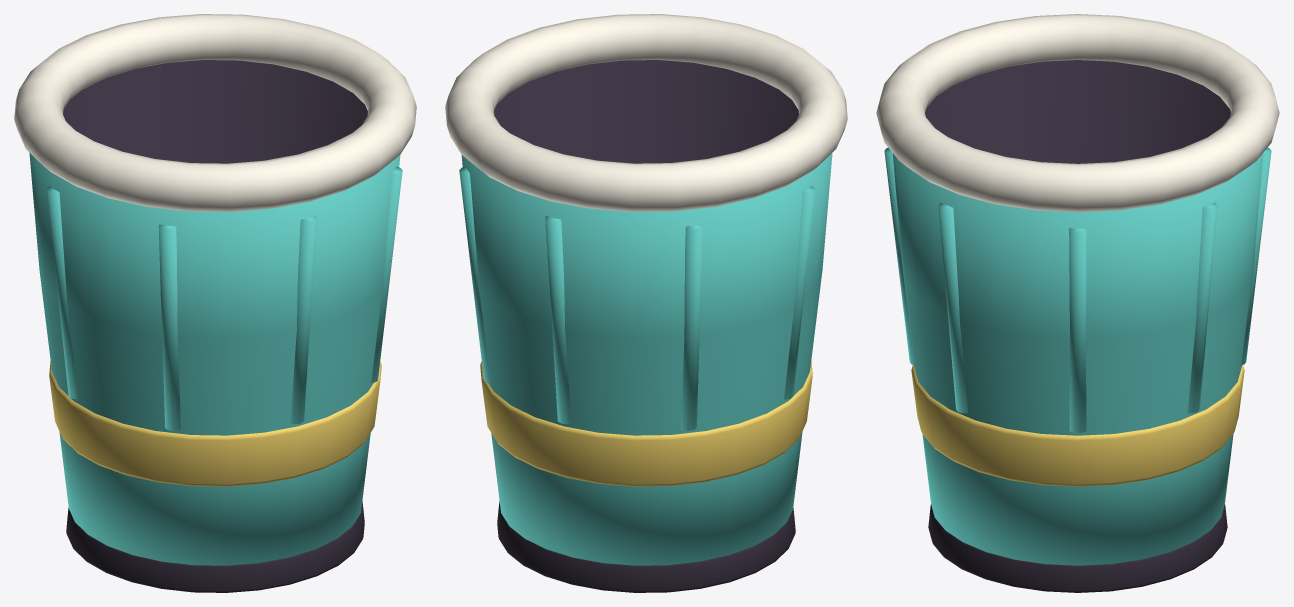
The model's file is trash-bin.glb.
3 views of the same model, side by side, from view 1: azimuth 30°, elevation 25°; view 2: azimuth 150°, elevation 25°; view 3: azimuth 270°, elevation 25° (orthographic).
Visible parts, largest first — view 1: FurnTrashBin_Body, FurnTrashBin_Rim, FurnTrashBin_InnerBase, FurnTrashBin_Stripe; view 2: FurnTrashBin_Body, FurnTrashBin_Rim, FurnTrashBin_InnerBase, FurnTrashBin_Stripe; view 3: FurnTrashBin_Body, FurnTrashBin_Rim, FurnTrashBin_InnerBase, FurnTrashBin_Stripe.
Part boxes in pixels (x1,y1,x2,y2): FurnTrashBin_Body: (29,152,402,565); FurnTrashBin_Rim: (14,14,416,211); FurnTrashBin_InnerBase: (63,60,367,592); FurnTrashBin_Stripe: (49,361,381,486); FurnTrashBin_Body: (459,152,832,565); FurnTrashBin_Rim: (445,14,847,211); FurnTrashBin_InnerBase: (494,60,798,592); FurnTrashBin_Stripe: (480,361,812,486); FurnTrashBin_Body: (884,147,1271,565); FurnTrashBin_Rim: (876,14,1279,212); FurnTrashBin_InnerBase: (925,60,1230,592); FurnTrashBin_Stripe: (911,365,1244,486).
Bounding box in the file's own units: 0.398 × 0.479 × 0.398.
